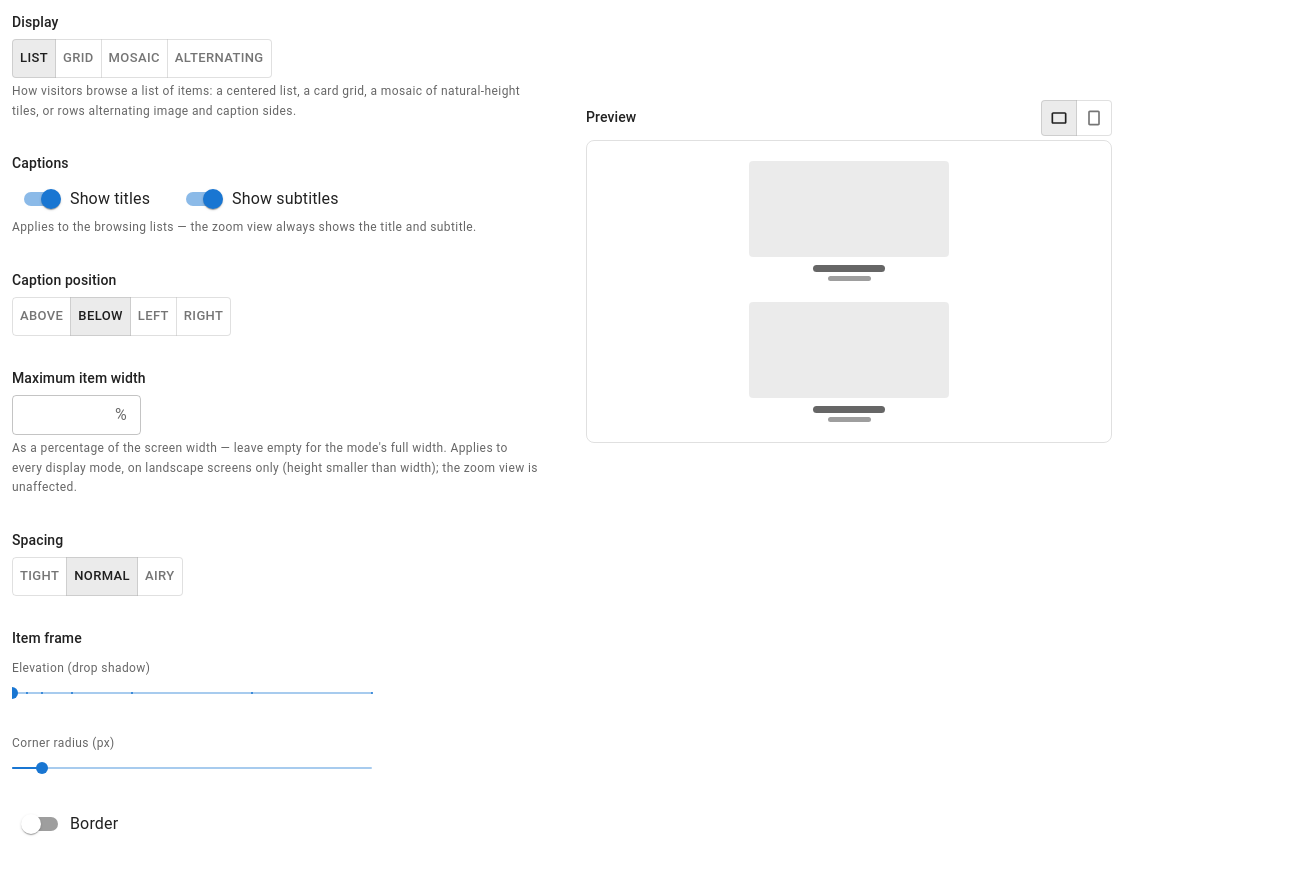
Test: GalleryDesignEditor › shows only the options applicable to the selected display mode (hidden, not disabled)
The width and height of the screenshot is (1292, 871).
Expected: the button "Above" is shown, 12,297 -> 71,336
Expected: the checkbox labelled "Show titles" is shown, 24,189 -> 150,209
Click the button "Grid" at (78, 58), box 55,39 -> 102,78
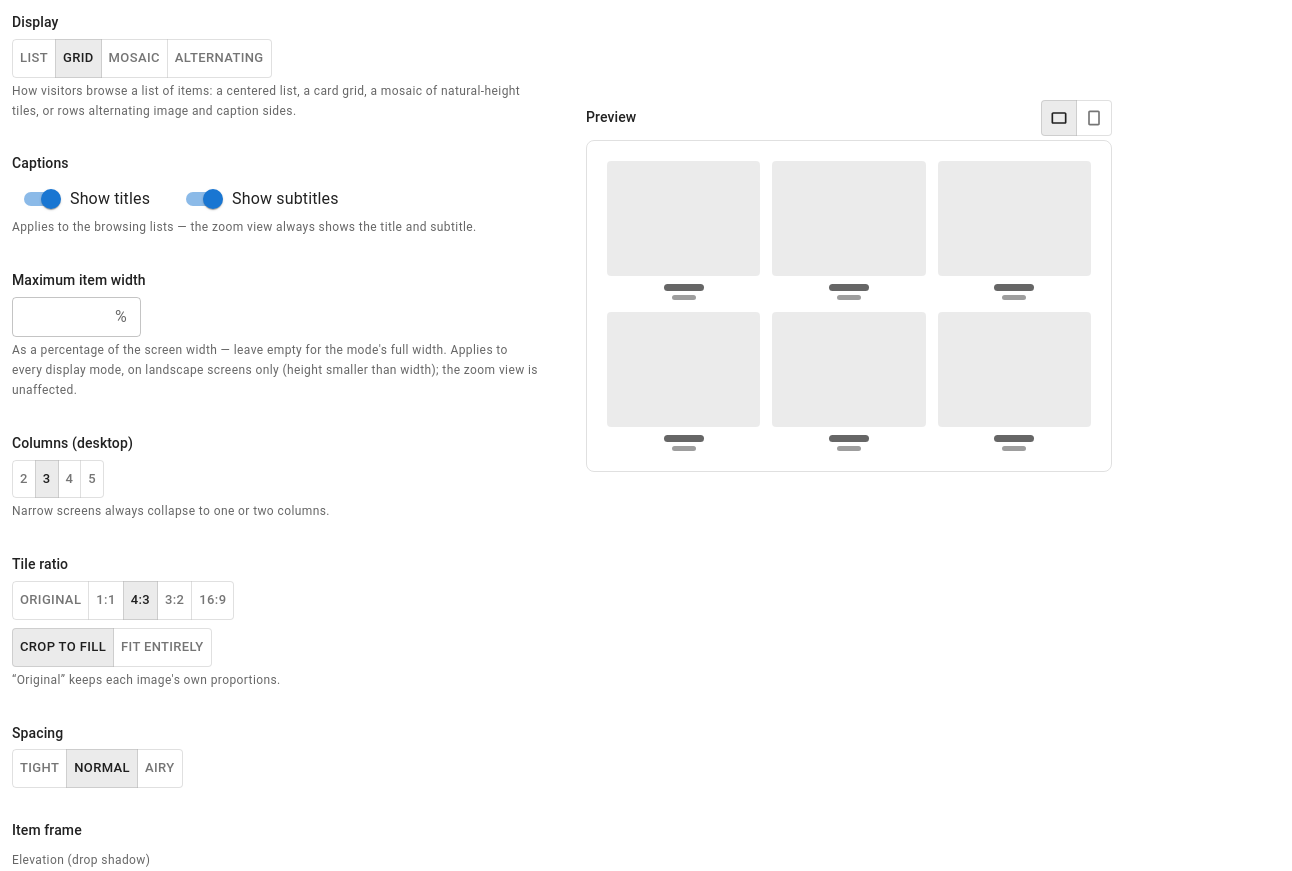
Now the button "Above" is gone
Now the button "5" is shown, box 80,460 -> 104,498
Now the button "16:9" is shown, box 191,581 -> 234,620
Click the button "Mosaic" at (134, 58), box 101,39 -> 168,78
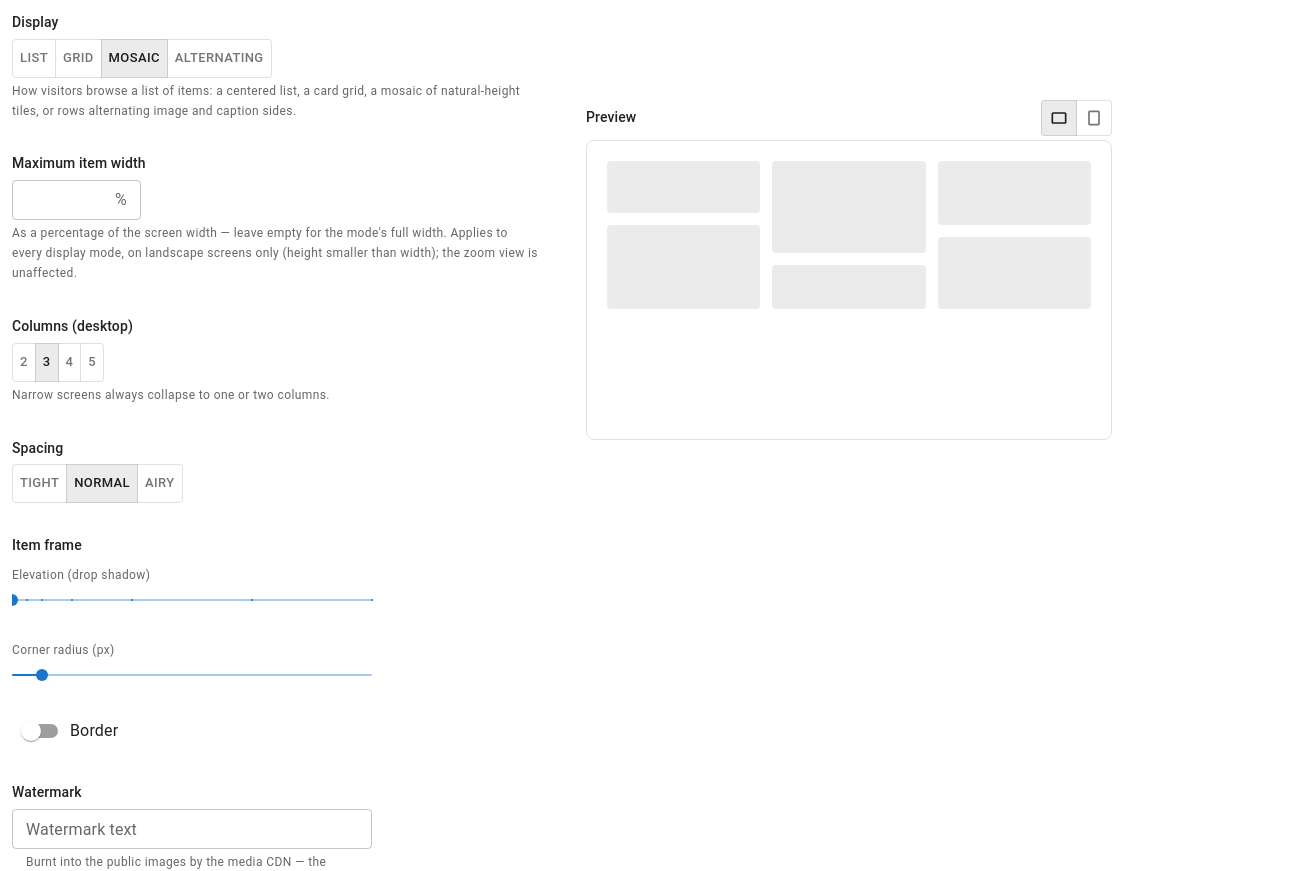
Now the button "5" is shown, box 80,343 -> 104,382
Now the button "16:9" is gone
Now the text "Show titles" is gone
alternate: caption toggles but no position, columns or ratio.
Click the button "Alternating" at (219, 58), box 167,39 -> 272,78
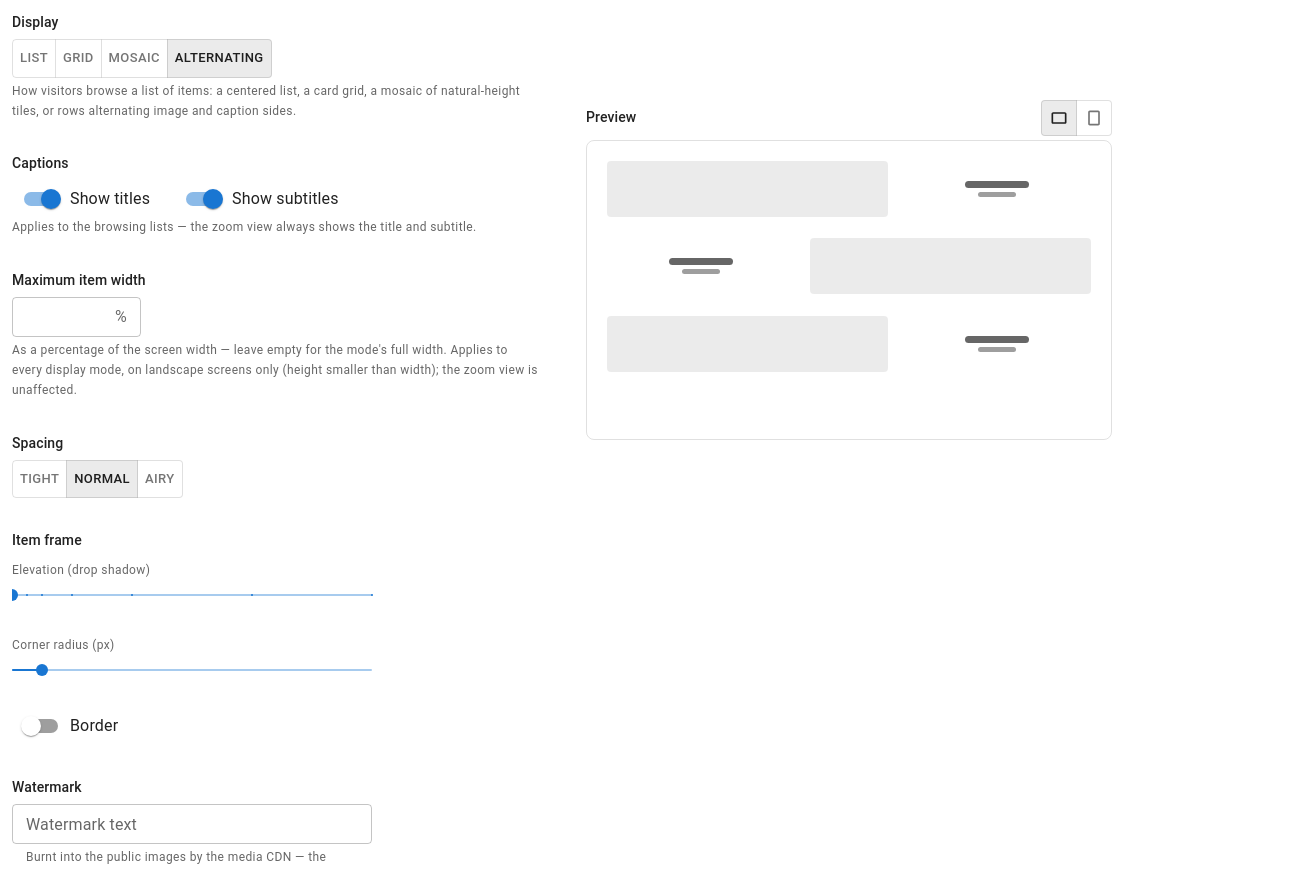
Expected: the button "Above" is not shown
Now the button "5" is gone
Now the checkbox labelled "Show titles" is shown, box 24,189 -> 150,209
Back to list — the hidden option resurfaces with its stored value intact.
Click the button "List" at (34, 58), box 12,39 -> 56,78
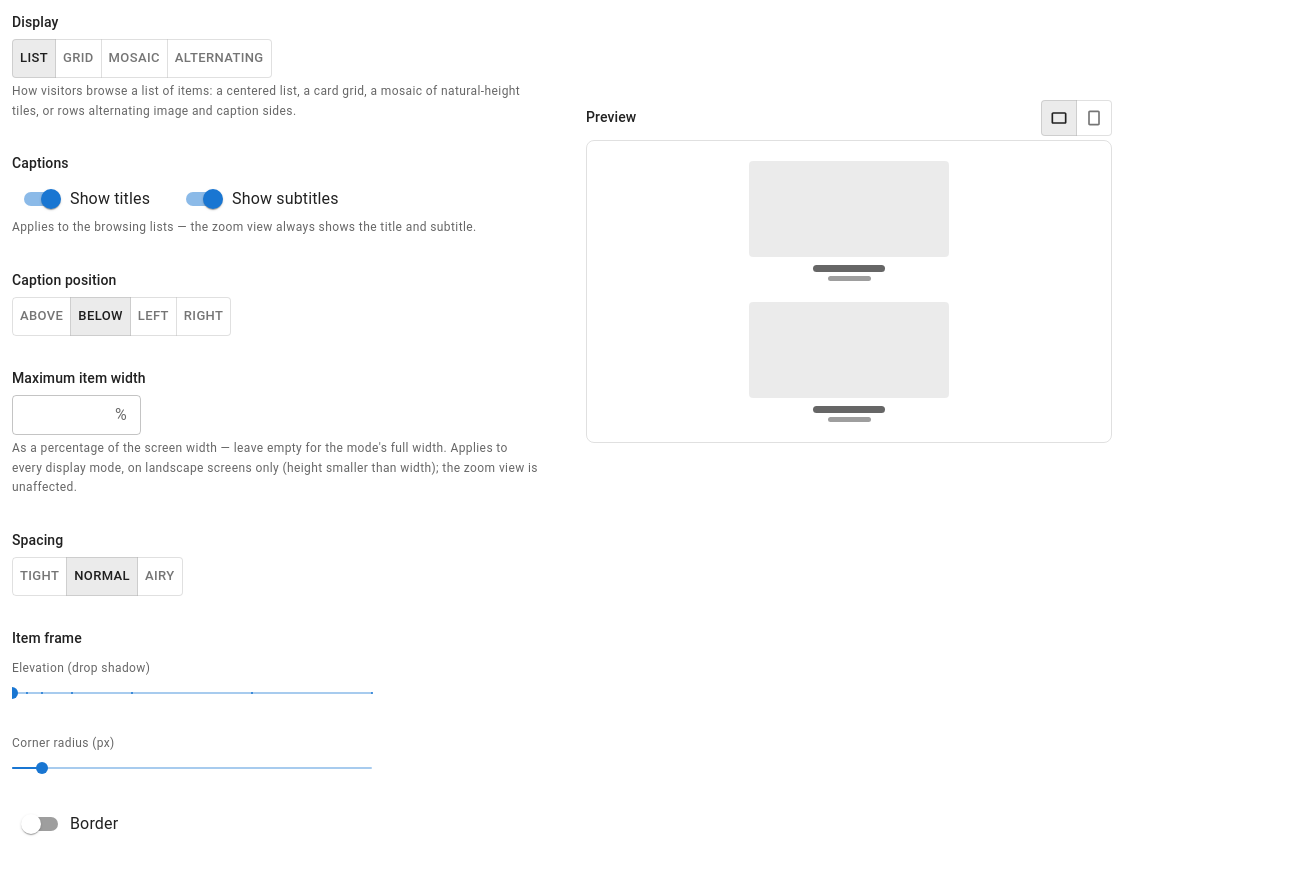
Now the button "Above" is shown, box 12,297 -> 71,336
